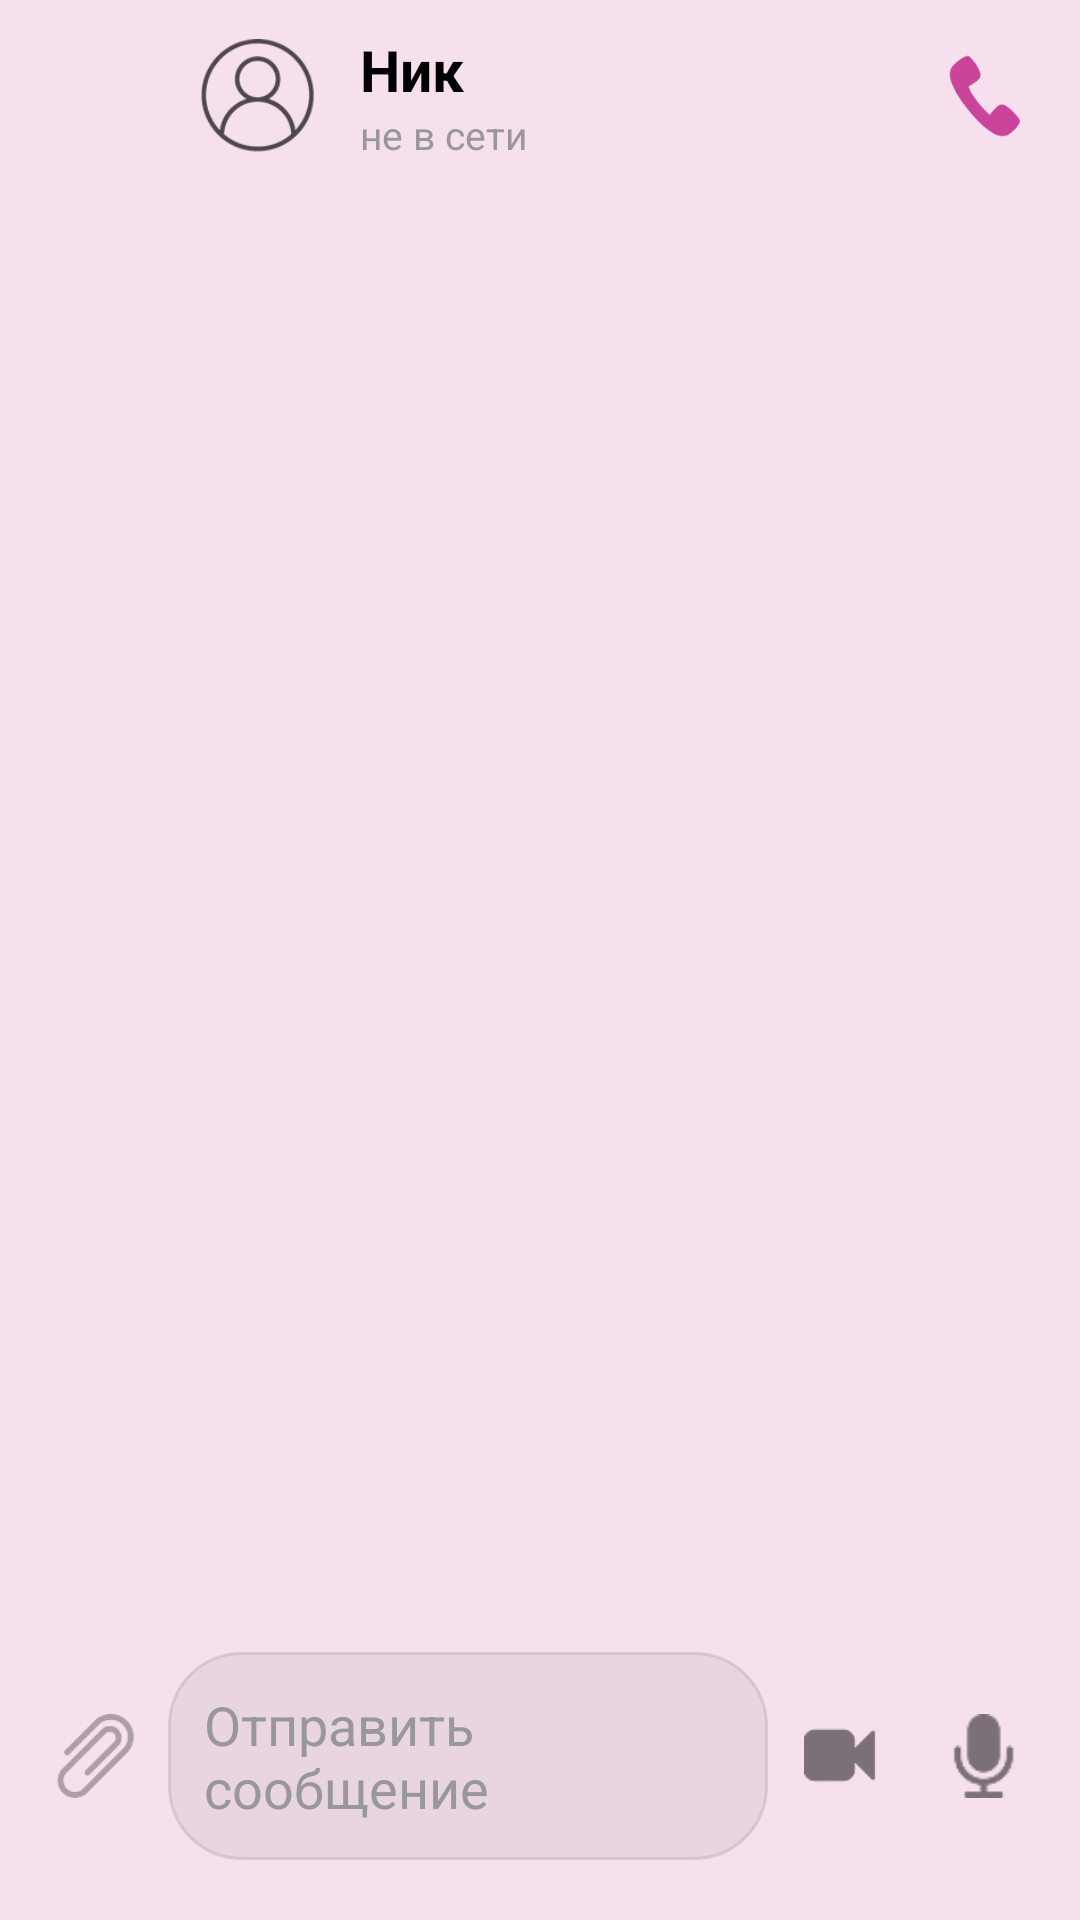

Where to tap for icons on this 1080px×1920px app screen, as (x=x, y=y):
call: (x=984, y=96)
camera: (x=839, y=1755)
file: (x=95, y=1756)
microphone: (x=984, y=1756)
profile: (x=257, y=95)
